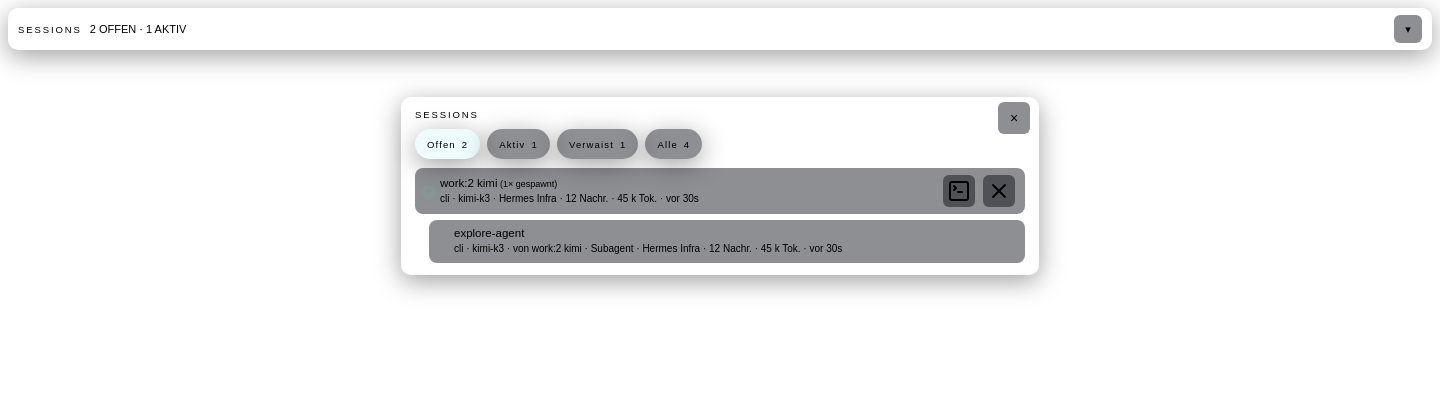
Test case: SessionsPanel (Spawn-Baum der Klassik im Jarvis-Look) › Filter-Chips schalten wie die Klassik (Verwaist/Alle)
Expected: the text "work:2 kimi" is shown, [440,177,498,189]
What coordinates should you click on to do the following:
click the button "Verwaist 1"
I would click on:
 (598, 144)
Its box is [557,129,638,159].
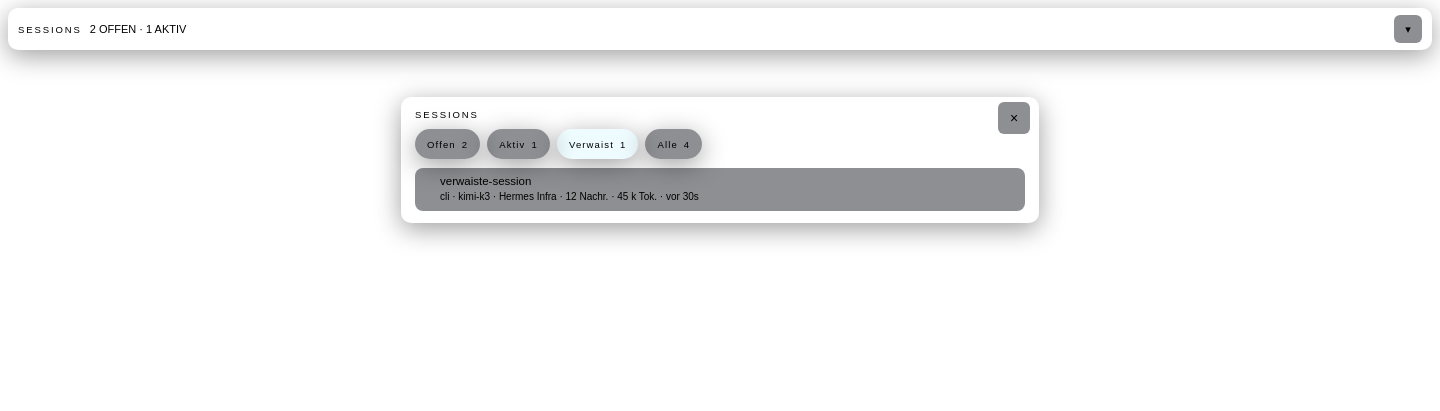
Result: the text "verwaiste-session" is shown at [440,175,531,187]
Result: the number of elements with class "jv-srow" is 1 at [415,168,1025,211]
What coordinates should you click on to do the following:
click the button "Alle 4"
I would click on:
 (674, 144)
Its box is [645,129,702,159].
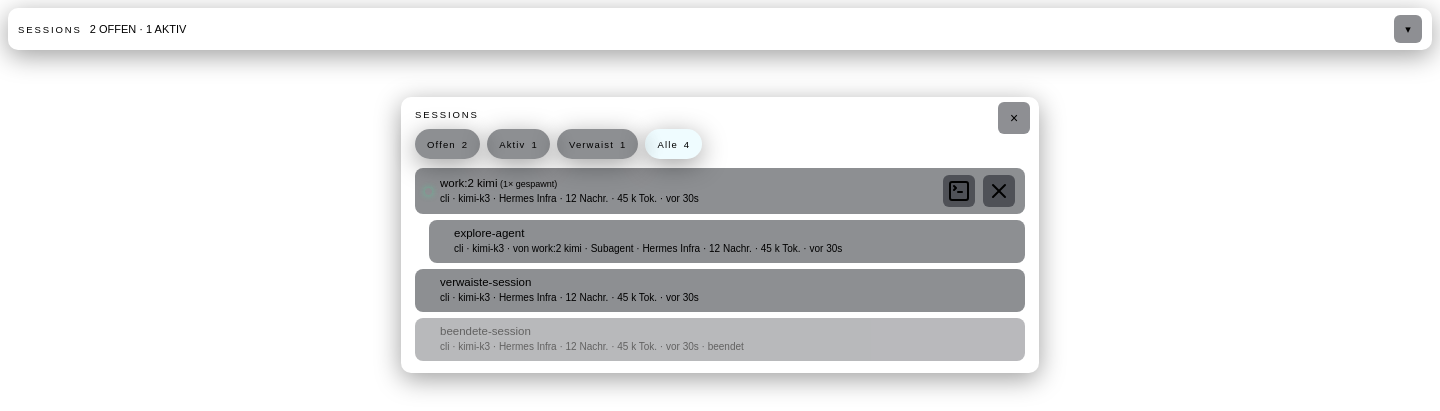
Result: the text "beendete-session" is shown at [440,325,531,337]
Result: the number of elements with class "jv-srow" is 4 at [415,168,1025,214]; [429,220,1025,263]; [415,269,1025,312]; [415,318,1025,361]
